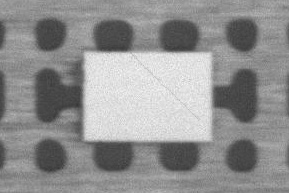DIE_CRACK: (198, 36, 289, 80)
